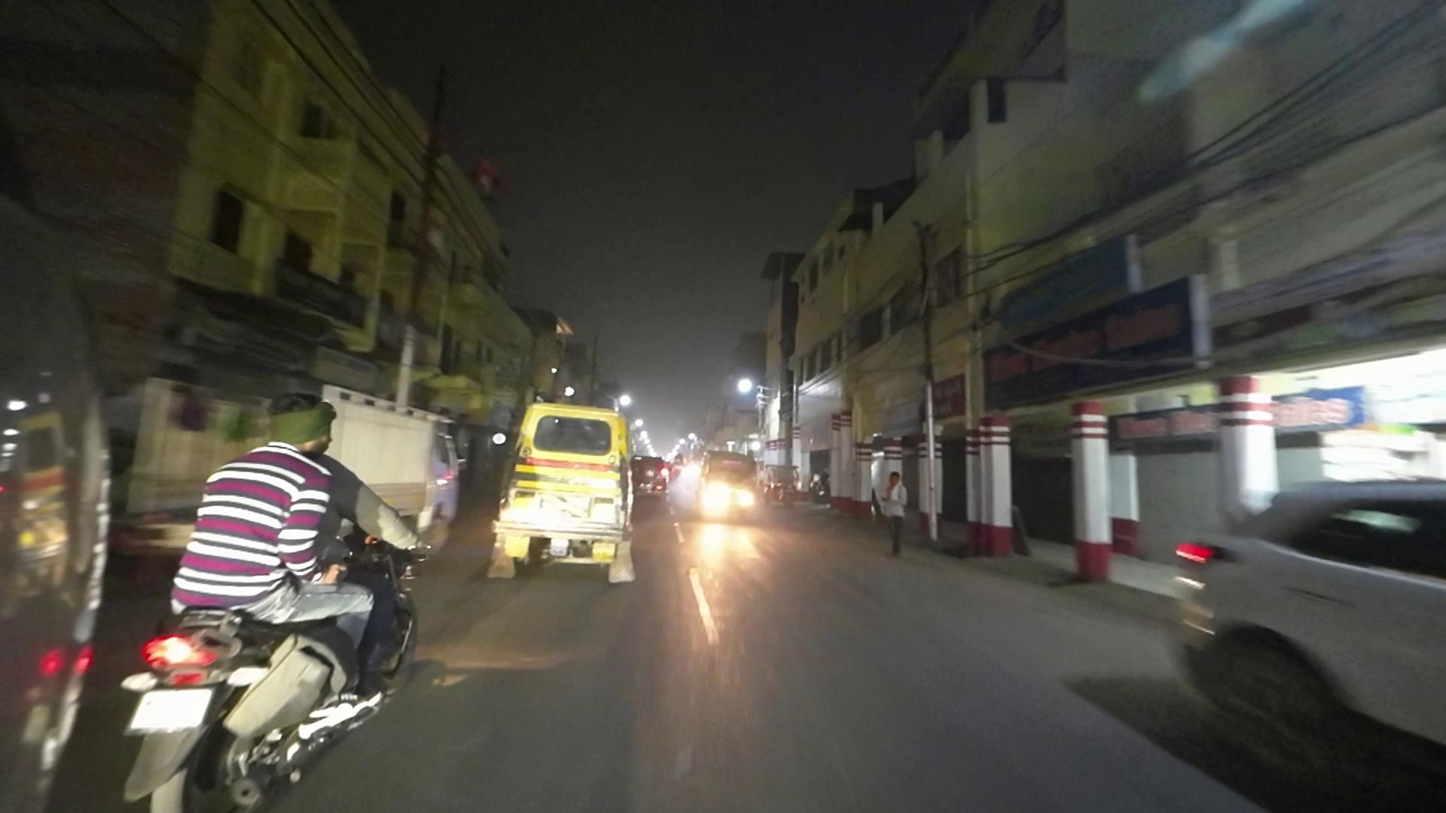streetlight: (468, 155, 501, 195)
